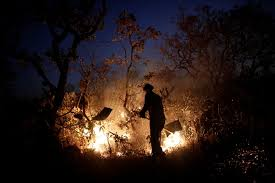fire: (78, 118, 122, 154), (91, 85, 128, 117), (57, 88, 89, 117), (163, 130, 183, 151)
smoke: (165, 64, 213, 99)
